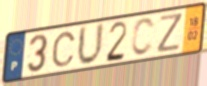2: (105, 20, 129, 64)
3: (25, 33, 49, 74)
C: (130, 16, 157, 58), (51, 30, 77, 68)
U: (75, 21, 106, 68)
Z: (155, 11, 185, 55)
